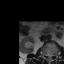CCS_normal: (49, 52, 50, 60)
LFS_stenosis: (52, 52, 54, 58)
LLS_stenosis: (50, 52, 52, 59)
RFS_normal: (44, 51, 47, 57)
RLS_normal: (47, 52, 49, 58)
